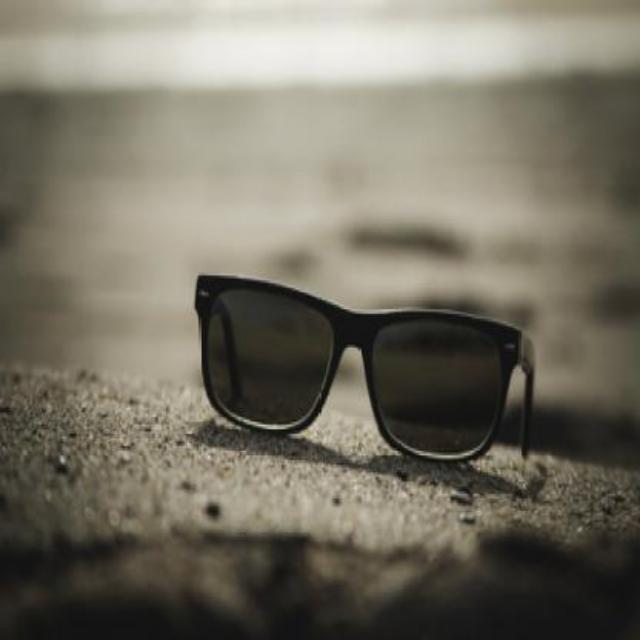glasses: (194, 272, 536, 464)
